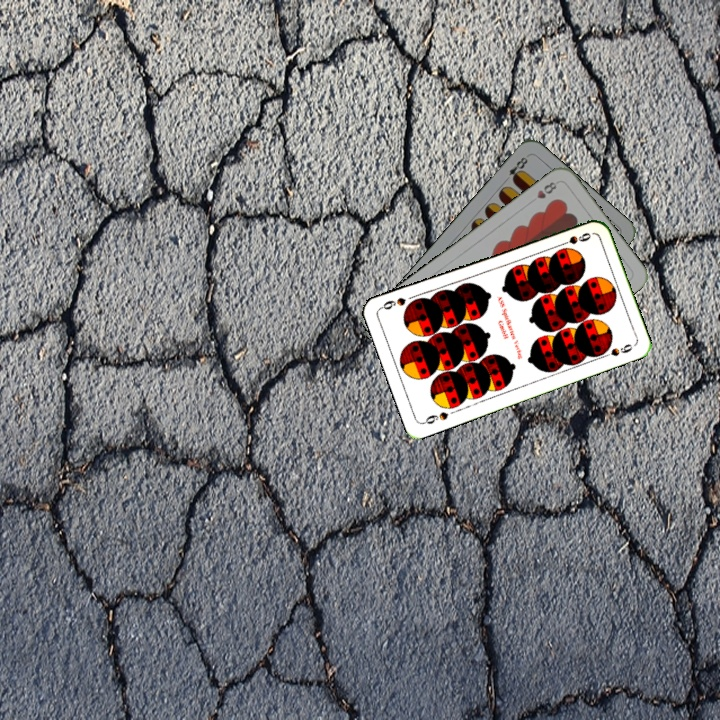E8: (504, 152, 531, 185)
H8: (533, 178, 559, 202)
S9: (555, 228, 593, 249), (419, 408, 451, 427)
